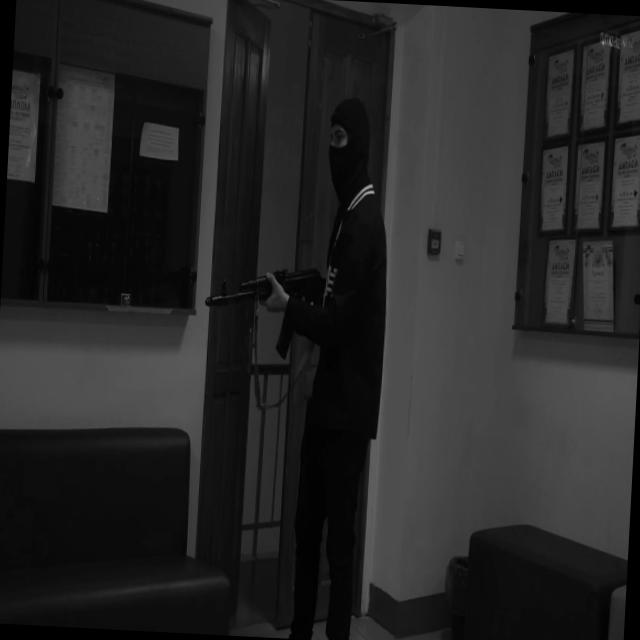gun: (202, 258, 344, 363)
person with a gun: (186, 91, 397, 640)
